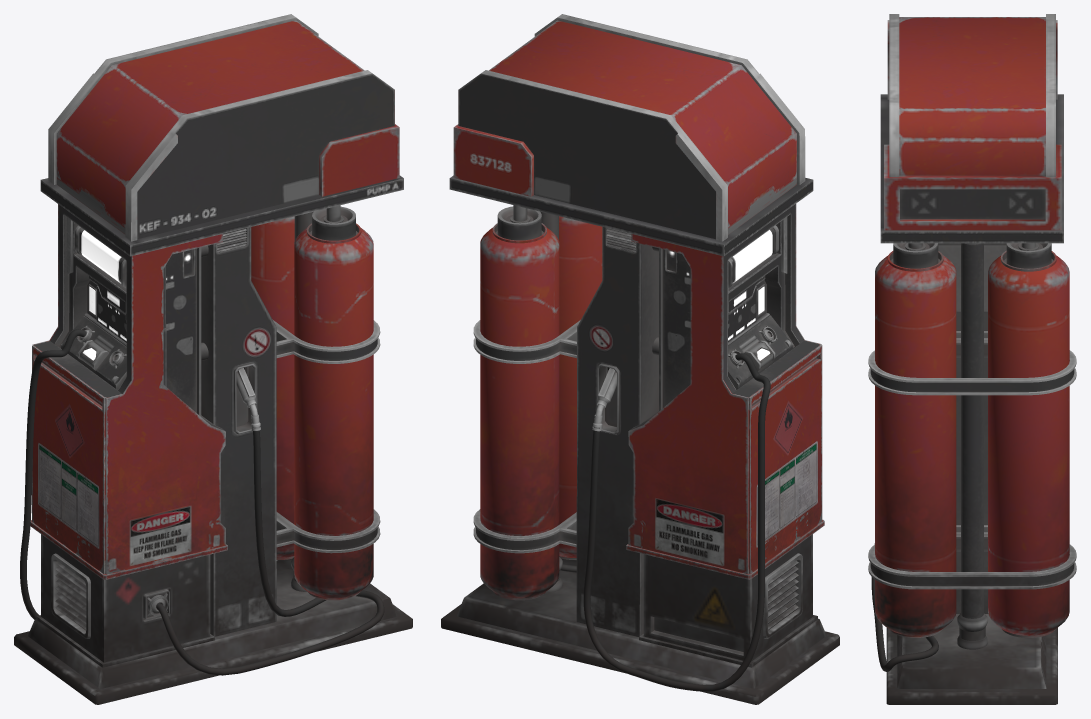
The model's file is gas-station.glb.
3 renders of one model, left to right at view 1: azimuth 30°, elevation 25°; view 2: azimuth 150°, elevation 25°; view 3: azimuth 270°, elevation 25°, orthographic. The views are drawn at different scales.
Visible parts, largest first — view 1: Crate_17_low, Crate_14_low, RightBarrel_low, BackPart_low, BoxPart_low, 1_low, LeftBarrel_low, Top_low, Middle_low, BotPart_low, Wire2_low, Wire1_low (+8 smaller); view 2: Crate_17_low, Crate_14_low, LeftBarrel_low, BackPart_low, BoxPart_low, 1_low, RightBarrel_low, BotPart_low, Top_low, Wire1_low, Middle_low, Panel_low (+7 smaller); view 3: Crate_17_low, RightBarrel_low, LeftBarrel_low, MainPipe_low, 1_low, Crate_34_low, Crate_33_low, Top_low, BotPart_low, BackPart_low, Wire2_low, LeftBarrelConnector_low (+1 smaller).
Part boxes in pixels (<box>): Crate_17_low: <box>48,14,399,241</box>; Crate_14_low: <box>30,204,227,579</box>; RightBarrel_low: <box>294,223,373,600</box>; BackPart_low: <box>201,227,276,636</box>; BoxPart_low: <box>36,534,214,667</box>; 1_low: <box>28,559,397,688</box>; LeftBarrel_low: <box>251,216,294,559</box>; Top_low: <box>40,175,403,256</box>; Middle_low: <box>163,247,201,416</box>; BotPart_low: <box>14,604,412,704</box>; Wire2_low: <box>156,430,384,675</box>; Wire1_low: <box>20,329,86,619</box>; Crate_17_low: <box>453,14,805,241</box>; Crate_14_low: <box>626,204,824,579</box>; LeftBarrel_low: <box>480,223,559,600</box>; BackPart_low: <box>576,227,658,636</box>; BoxPart_low: <box>639,534,817,667</box>; 1_low: <box>457,558,826,688</box>; RightBarrel_low: <box>559,216,602,559</box>; BotPart_low: <box>441,604,839,704</box>; Top_low: <box>449,175,813,256</box>; Wire1_low: <box>583,353,770,691</box>; Middle_low: <box>659,248,690,410</box>; Panel_low: <box>728,313,793,389</box>; Crate_17_low: <box>884,14,1061,230</box>; RightBarrel_low: <box>875,251,956,637</box>; LeftBarrel_low: <box>988,250,1069,637</box>; MainPipe_low: <box>957,243,987,649</box>; 1_low: <box>897,614,1046,688</box>; Crate_34_low: <box>868,525,1076,589</box>; Crate_33_low: <box>868,331,1076,395</box>; Top_low: <box>880,94,1063,243</box>; BotPart_low: <box>886,627,1057,704</box>; BackPart_low: <box>938,243,1006,613</box>; Wire2_low: <box>871,543,938,671</box>; LeftBarrelConnector_low: <box>1006,243,1051,268</box>.
Size of the model in its own units: 1.48 by 2.5 by 0.8177.
1 material, 1 textured.
